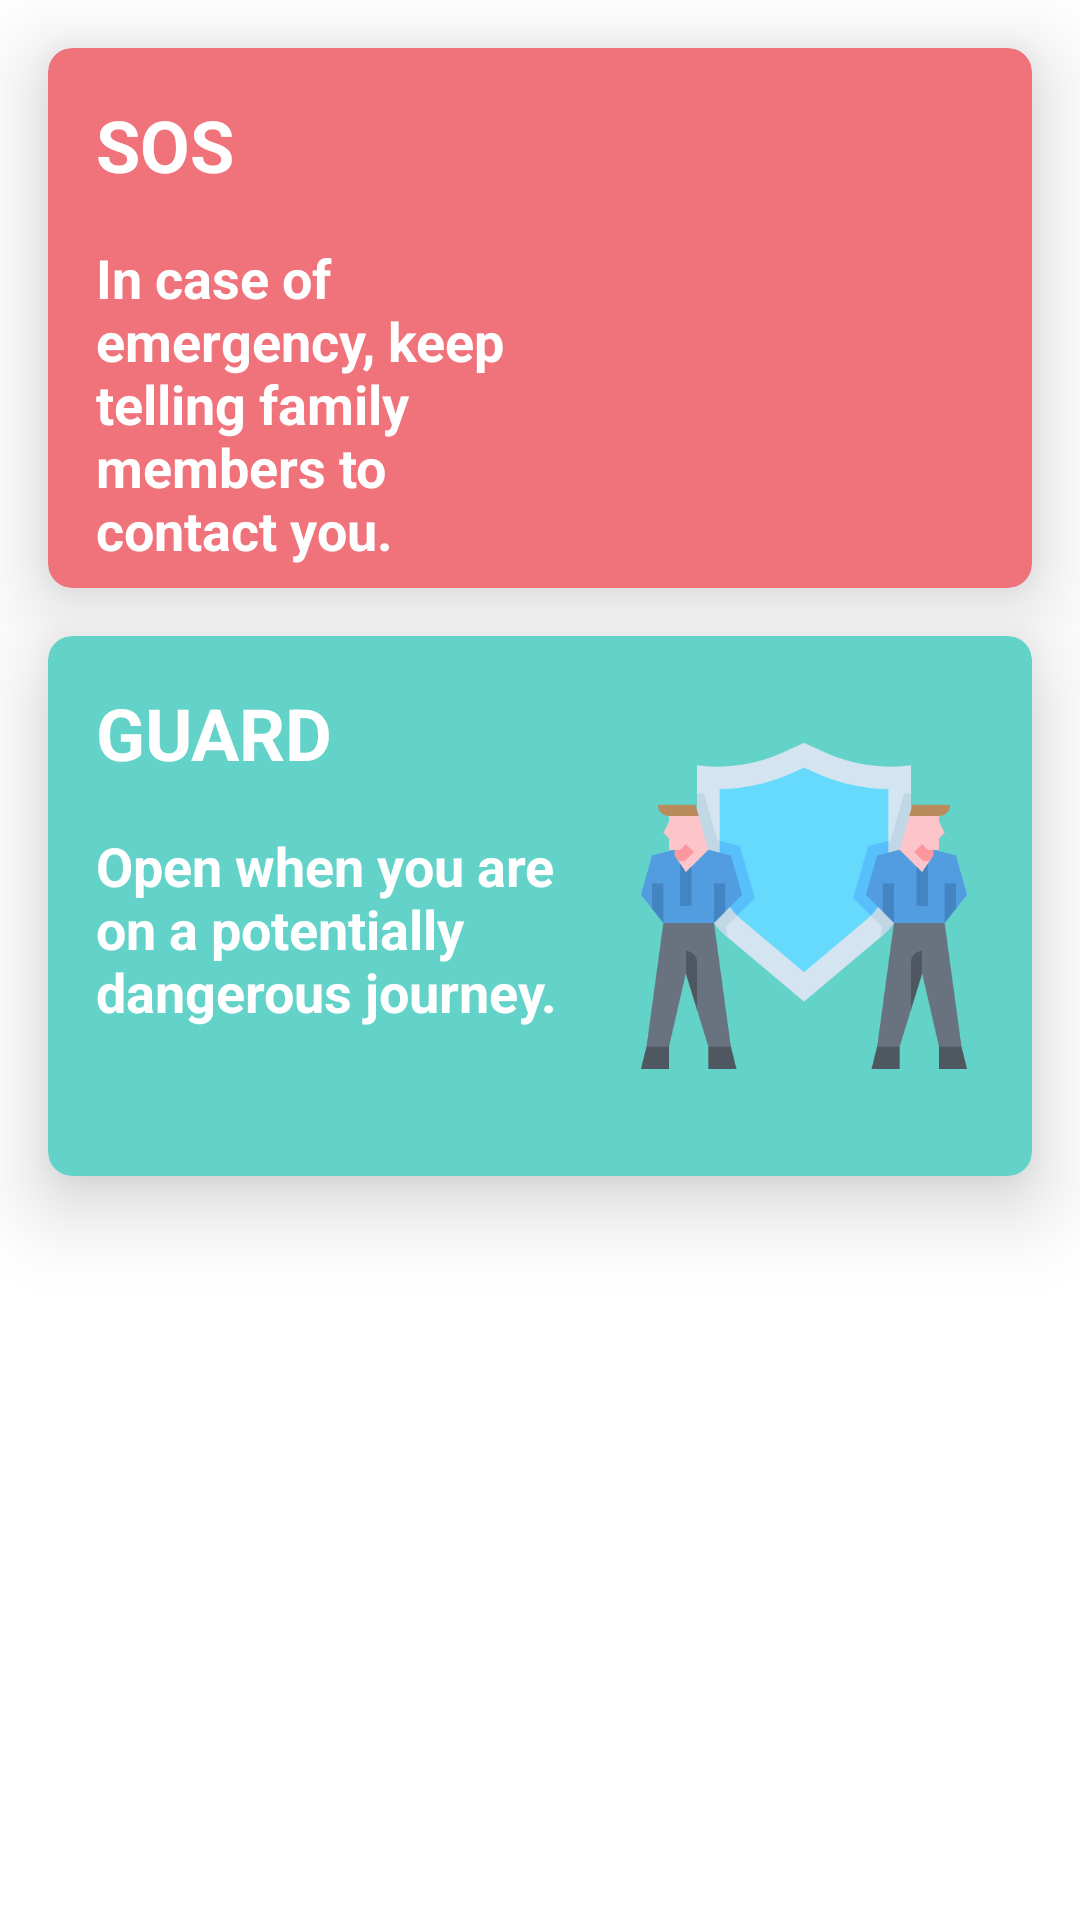

Screen size 1080 × 1920. Icon name, then its center in pixels as (x=x, y=y):
security: (x=804, y=906)
